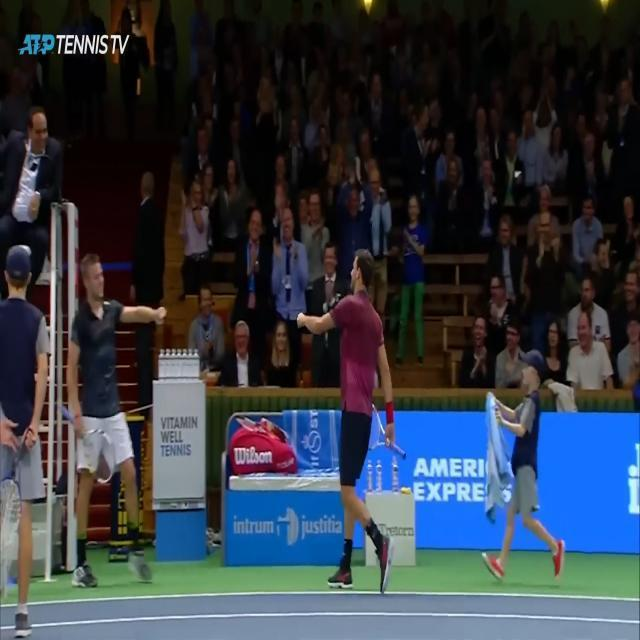player: (296, 247, 408, 598)
